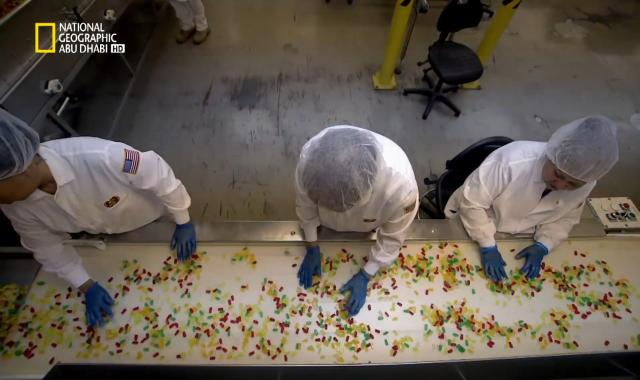hairnet: (293, 120, 384, 209), (548, 108, 619, 188), (1, 108, 44, 175)
